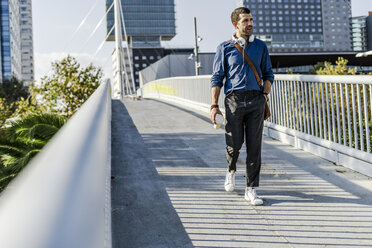person: (205, 6, 276, 208)
